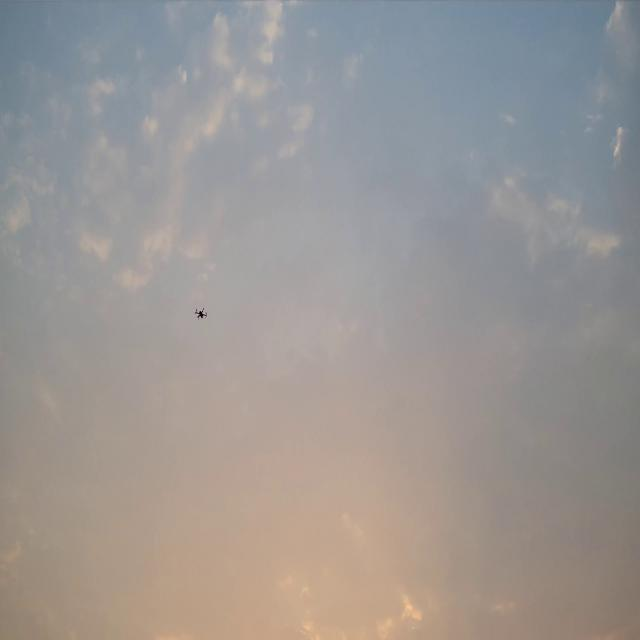drone: (194, 307, 207, 320)
